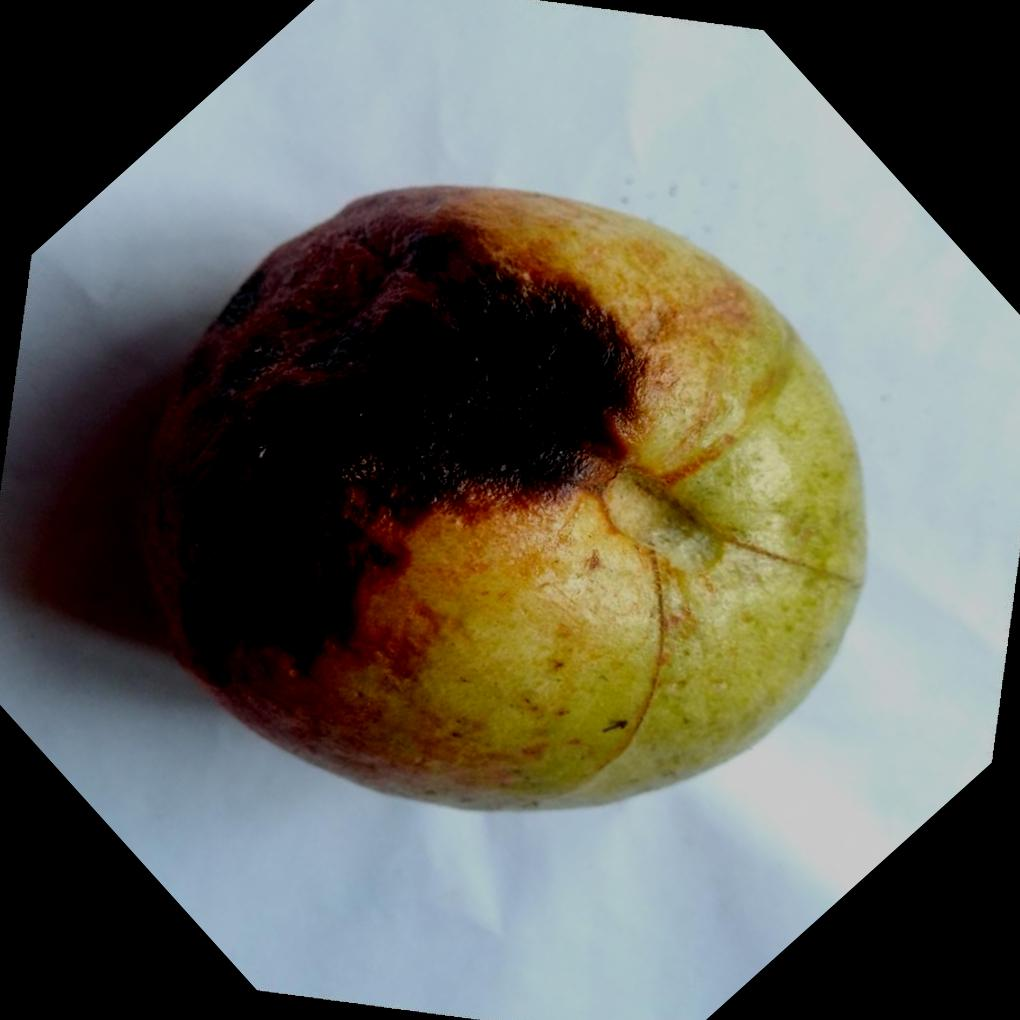FreshOrange: (127, 183, 867, 815)
